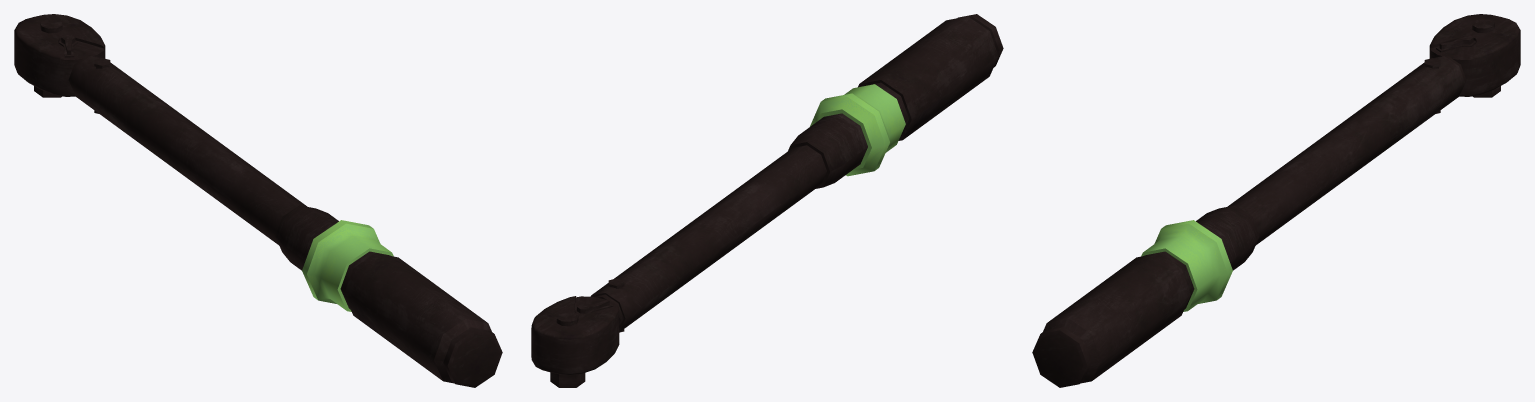
The model's file is 5.2_torque_wrench.fbx.
The picture shows the model from 3 angles, left to right: view 1: azimuth 30°, elevation 25°; view 2: azimuth 150°, elevation 25°; view 3: azimuth 330°, elevation 25°; orthographic projection. The views are drawn at different scales.
Parts seen in each view (by area): view 1: torque_wrench_shaft, torque_wrench, torque_wrench_lock; view 2: torque_wrench_shaft, torque_wrench, torque_wrench_lock; view 3: torque_wrench_shaft, torque_wrench, torque_wrench_lock.
Part boxes in pixels (x1,y1,x2,y2): torque_wrench_shaft: [14, 14, 307, 244]; torque_wrench: [275, 205, 502, 387]; torque_wrench_lock: [302, 220, 393, 311]; torque_wrench_shaft: [531, 145, 826, 387]; torque_wrench: [788, 14, 1003, 188]; torque_wrench_lock: [810, 84, 905, 176]; torque_wrench_shaft: [1227, 14, 1520, 244]; torque_wrench: [1032, 205, 1259, 387]; torque_wrench_lock: [1141, 220, 1232, 311].
Bounding box in the file's own units: 0.0422 × 0.0425 × 0.4112.
